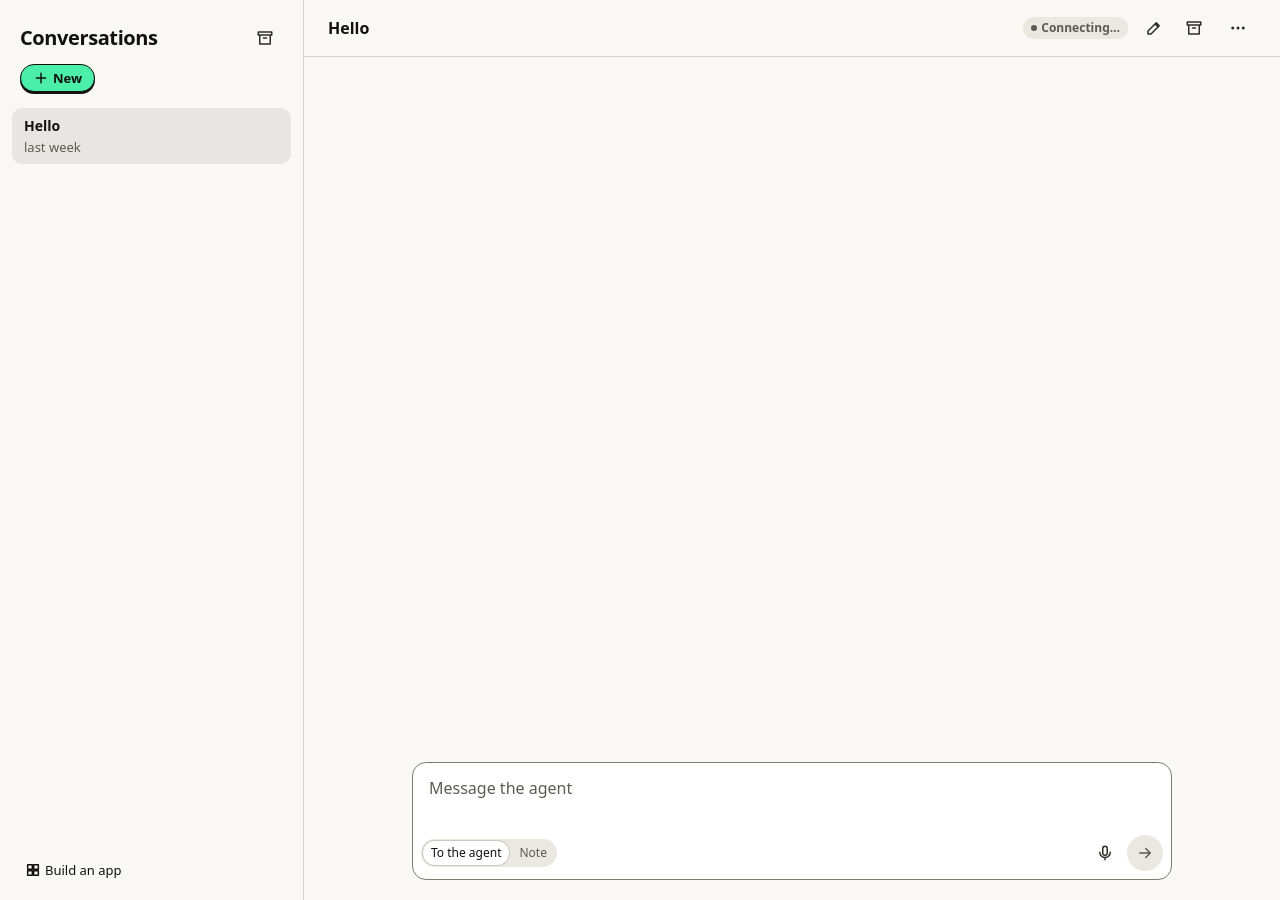
it: dictation puts the text where the cursor is, to edit before sending
In the text box labelled "Message": (792, 801) [421,771,1163,831], type "Hello world"
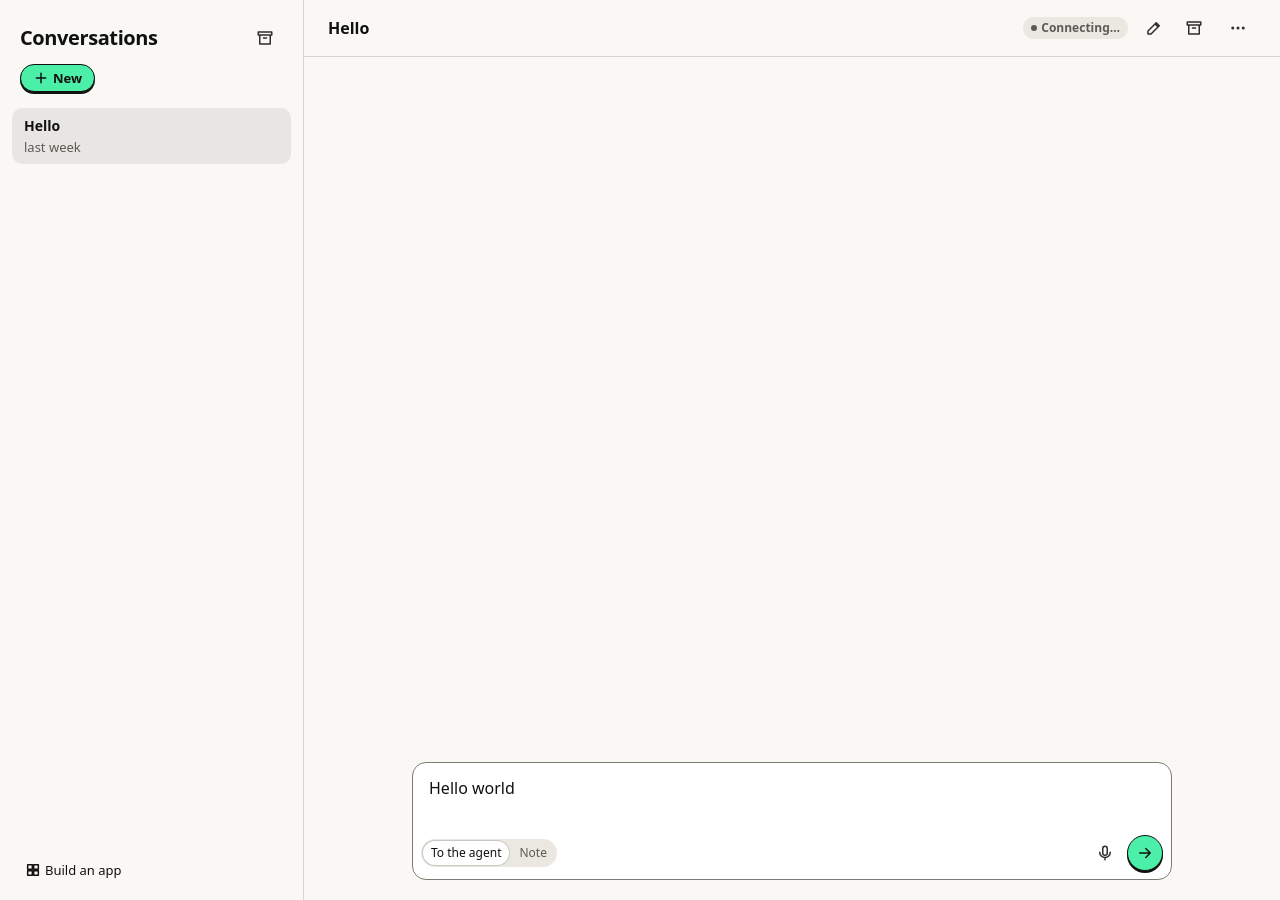
Click the button named "Dictate": (1105, 853) [1087,835,1123,871]
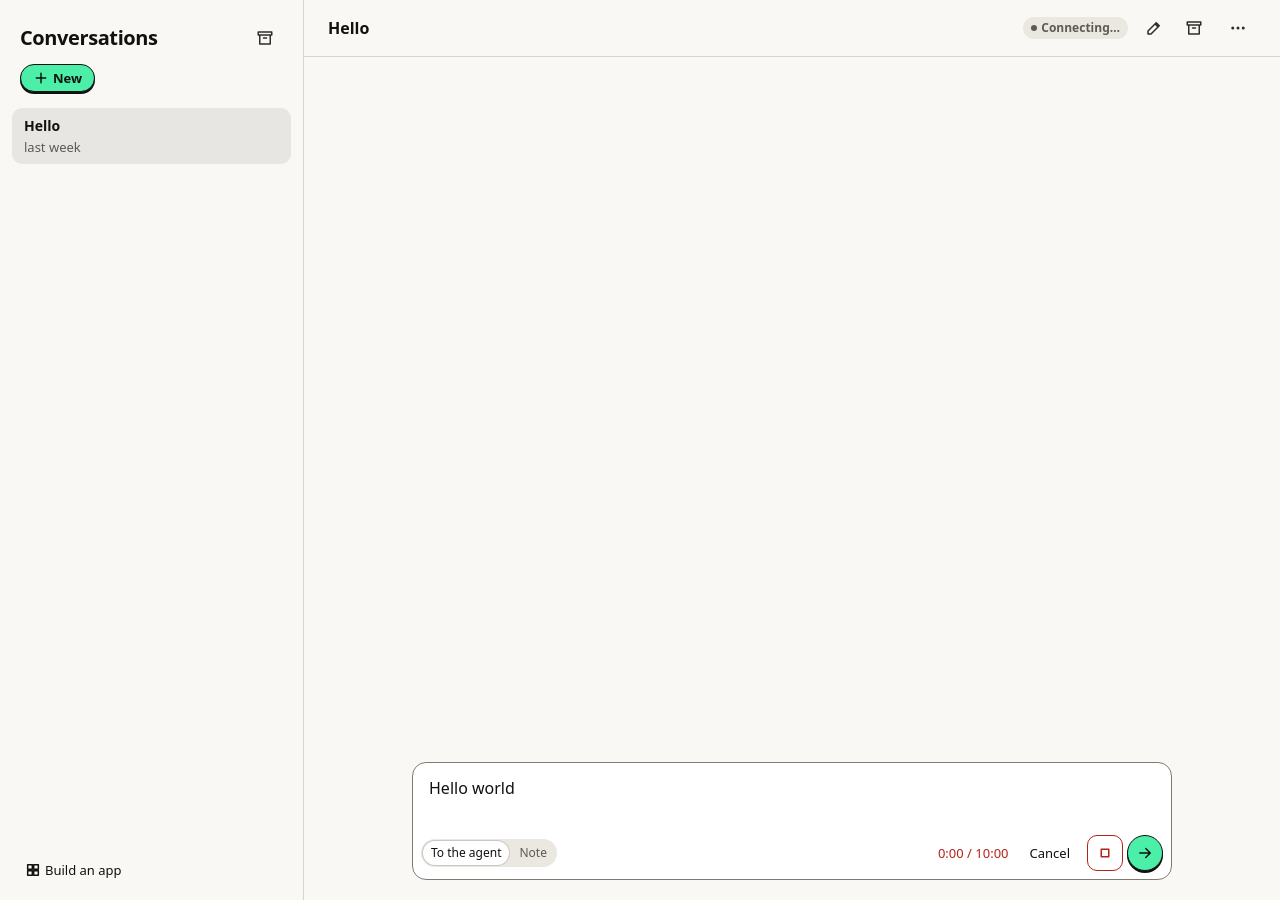
Check: the text "0:00 / 10:00" is shown, box [934,844,1012,862]
Click the button named "Stop dictation": (1105, 853) [1087,835,1123,871]
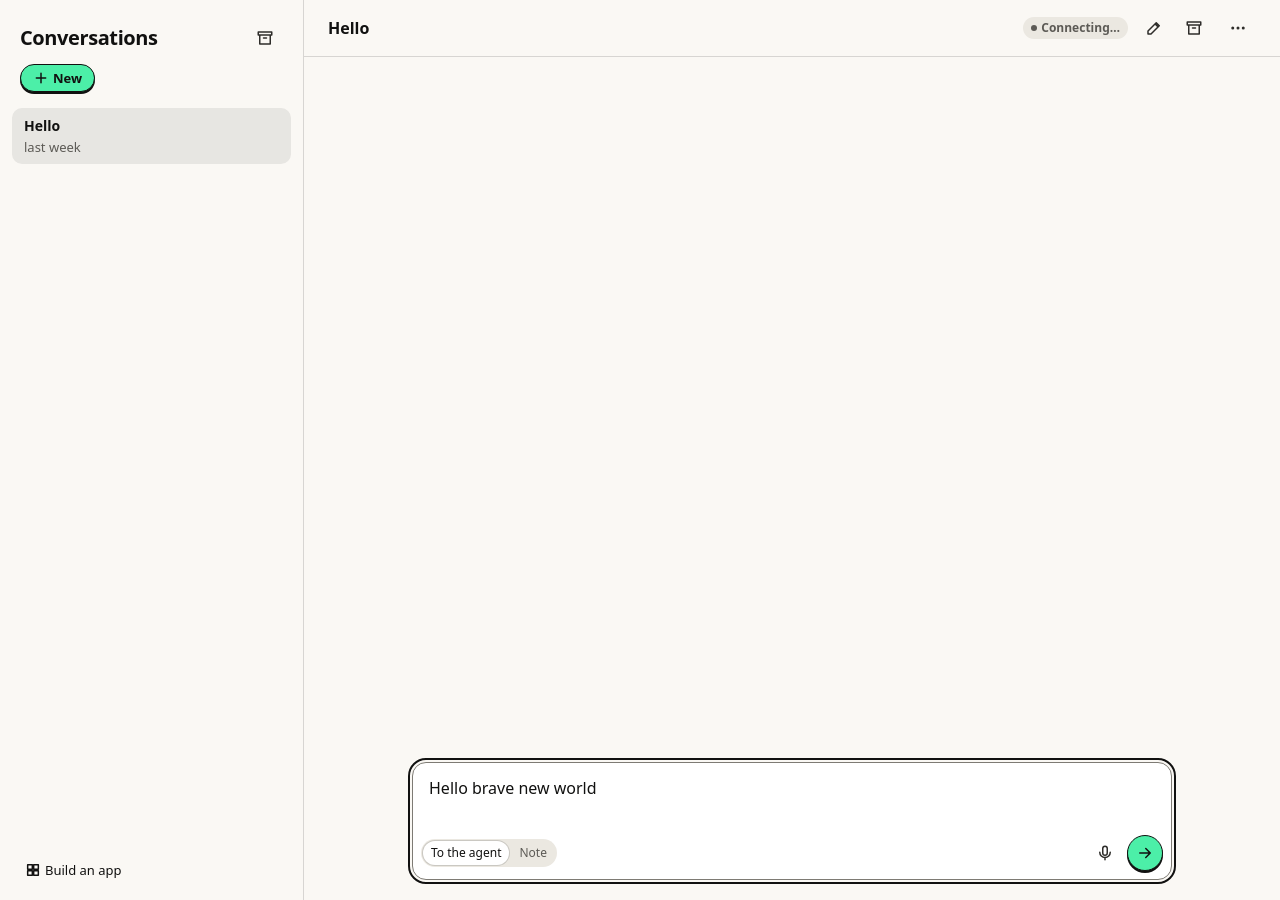
Check: the text box labelled "Message" holds "Hello brave new world", box [421,771,1163,831]
